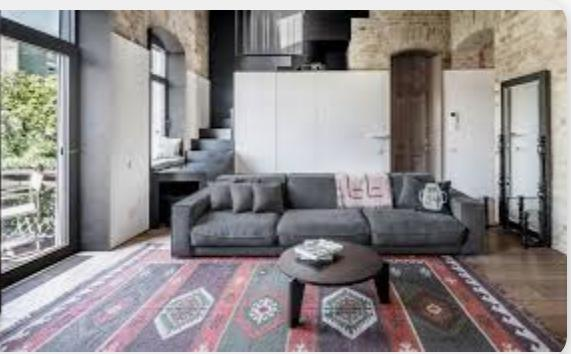carpet: (0, 232, 558, 352)
